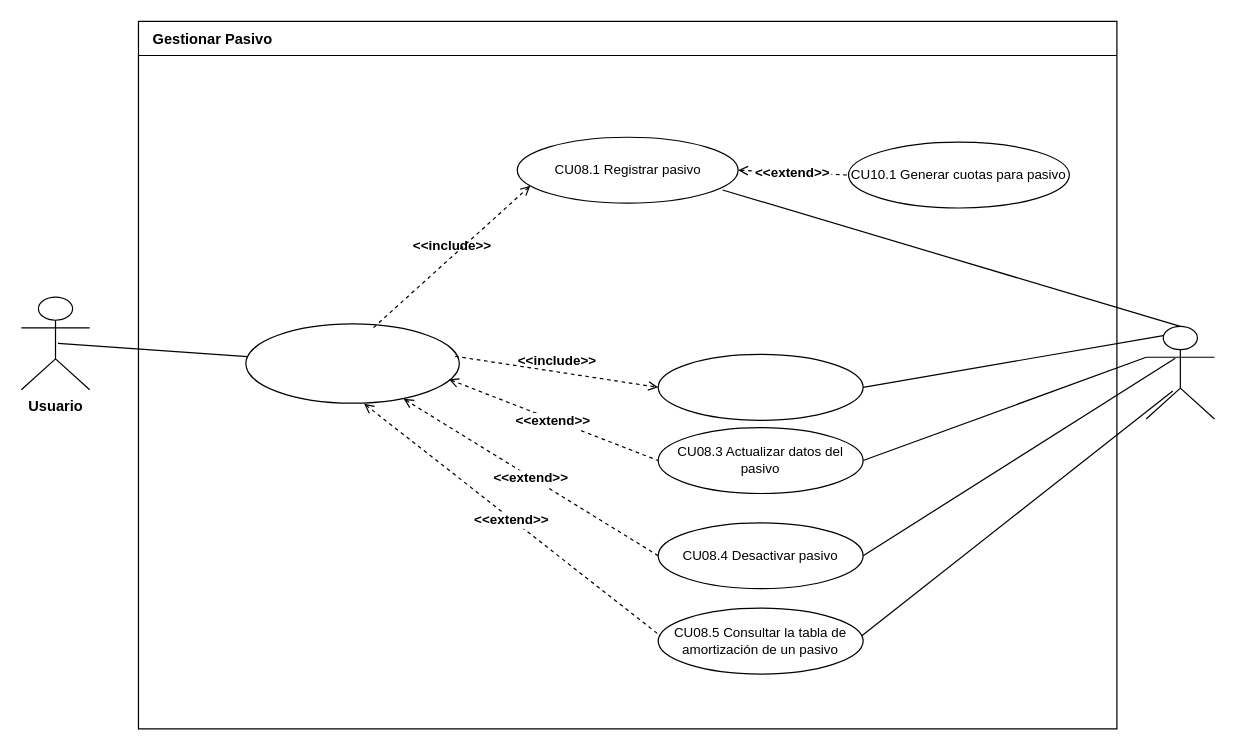
Image size: 1252x750. Some labels were removed from this diagram. The box of each missing label's shape, as (x1, y1, x2, y2) in pixels:
Base de Datos: (1145, 325, 1215, 419)
CU08 Gestionar pasivo: (245, 323, 459, 403)
CU08.2 C onsultar el detalle de un pasivo: (657, 353, 863, 420)
